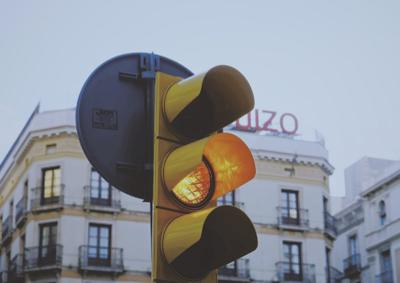International Road Signal Light: (154, 64, 262, 281)
